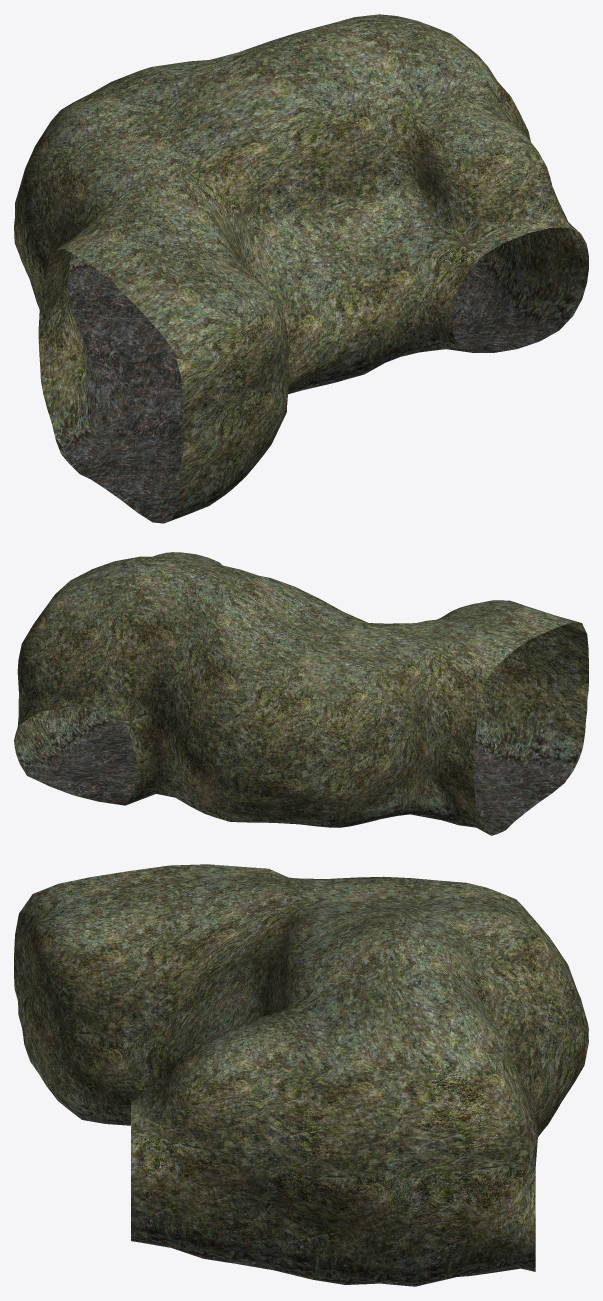
Rendered from thm_all_cave_s01_damprock_mirror_r3_mesh_r3.fbx.
The picture shows the model from 3 angles, top to bottom: view 1: azimuth 30°, elevation 25°; view 2: azimuth 150°, elevation 25°; view 3: azimuth 270°, elevation 25°; orthographic projection. The views are drawn at different scales.
Parts seen in each view (by area): view 1: mesh_node; view 2: mesh_node; view 3: mesh_node.
Part boxes in pixels (left/top/right/bottom): mesh_node: left=14, top=14, right=588, bottom=523; mesh_node: left=14, top=552, right=588, bottom=835; mesh_node: left=14, top=864, right=588, bottom=1286.
Bounding box in the file's own units: 51.47 × 30.23 × 47.83.
